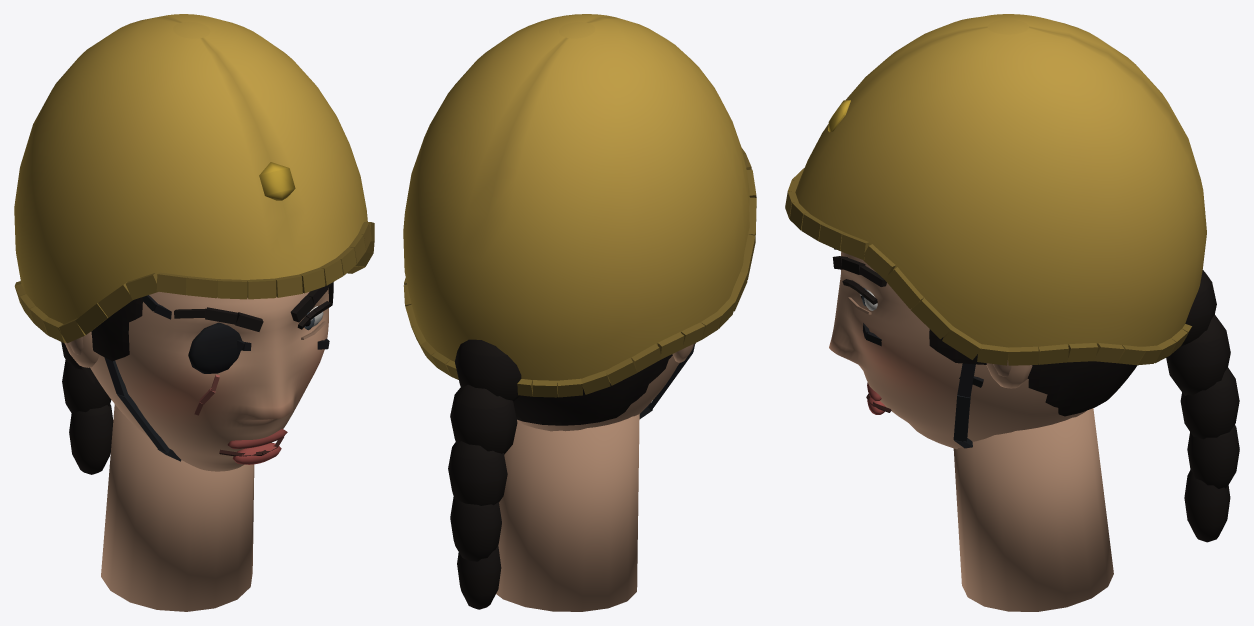
Rendered from cabeza-capitan-f.glb.
3 renders of one model, left to right at view 1: azimuth 30°, elevation 25°; view 2: azimuth 150°, elevation 25°; view 3: azimuth 270°, elevation 25°, orthographic.
Parts seen in each view (by area): view 1: h_Head; view 2: h_Head; view 3: h_Head.
Part boxes in pixels (bbox=[...]): h_Head: bbox=[14, 14, 374, 611]; h_Head: bbox=[403, 14, 756, 611]; h_Head: bbox=[785, 14, 1239, 611].
Bounding box in the file's own units: 0.219 × 0.3963 × 0.2919.
